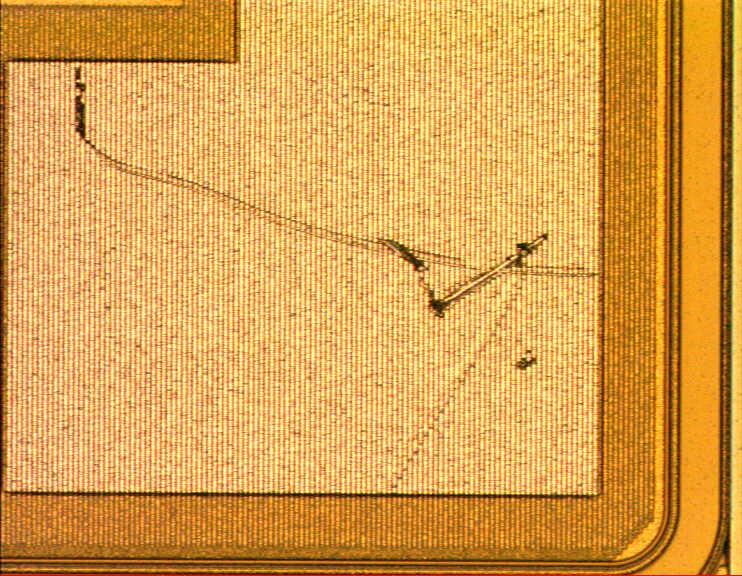SCRATCH: (66, 61, 617, 504)
